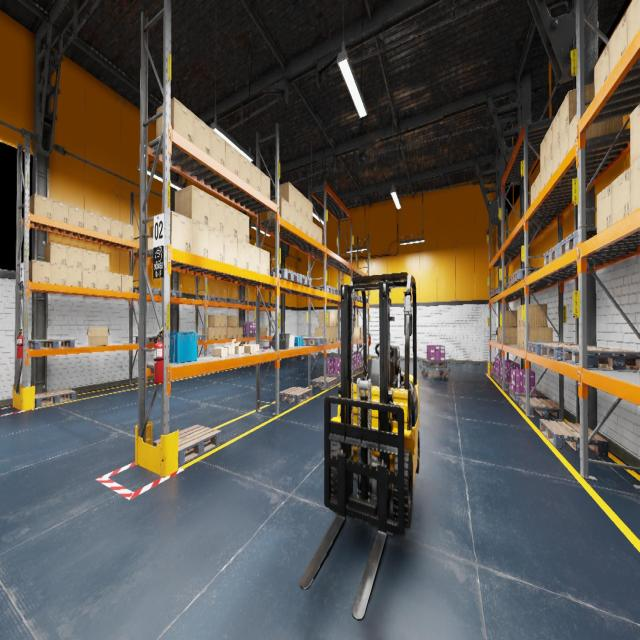box: (569, 106, 622, 152), (560, 83, 594, 139), (156, 98, 194, 144), (174, 185, 208, 226), (610, 10, 628, 74), (612, 166, 631, 224), (594, 42, 610, 96), (170, 211, 191, 252), (597, 182, 612, 234), (193, 114, 210, 155), (524, 327, 553, 350), (520, 304, 548, 327), (630, 103, 640, 165), (192, 220, 208, 258), (627, 0, 640, 46), (210, 128, 225, 167), (209, 194, 224, 233), (29, 194, 52, 218), (630, 158, 640, 213), (267, 197, 289, 222), (44, 242, 67, 265), (209, 227, 224, 262), (275, 182, 295, 208), (29, 260, 50, 283), (224, 203, 237, 238), (226, 141, 238, 176), (87, 327, 109, 346), (224, 234, 237, 266), (52, 199, 68, 224), (50, 263, 67, 285), (68, 205, 84, 228), (239, 152, 250, 185), (238, 210, 249, 243), (237, 240, 249, 270), (552, 107, 560, 151), (67, 245, 82, 268), (66, 266, 82, 287), (249, 244, 260, 272), (250, 162, 260, 192), (560, 126, 568, 163), (82, 249, 96, 270), (84, 210, 98, 231), (82, 268, 96, 288), (500, 310, 517, 326), (96, 270, 109, 290), (96, 252, 109, 272), (314, 327, 330, 343), (502, 327, 517, 344), (261, 171, 270, 199), (260, 248, 269, 276), (98, 214, 110, 235), (110, 218, 122, 238), (546, 122, 552, 161), (553, 140, 560, 173), (122, 222, 134, 241), (319, 311, 333, 327), (540, 134, 546, 171), (546, 152, 553, 183), (121, 274, 133, 292), (109, 273, 121, 291), (230, 339, 244, 354), (540, 162, 546, 191), (212, 347, 228, 357), (202, 327, 215, 339), (208, 314, 220, 326), (289, 204, 295, 226), (296, 188, 301, 213), (226, 316, 238, 326), (243, 344, 256, 353), (302, 194, 307, 217), (220, 346, 234, 354), (296, 208, 301, 230), (302, 213, 307, 234), (536, 172, 540, 198), (531, 180, 535, 205), (308, 199, 312, 222), (520, 327, 524, 349), (248, 344, 259, 352), (308, 218, 312, 238), (147, 237, 153, 250), (226, 327, 233, 338), (313, 222, 317, 241), (318, 226, 322, 244), (220, 315, 226, 327), (260, 327, 267, 337), (220, 327, 226, 338), (517, 306, 520, 326), (353, 314, 358, 326), (215, 327, 220, 339), (233, 327, 238, 338), (150, 225, 154, 238), (334, 327, 337, 343), (330, 327, 333, 343), (518, 327, 520, 349), (238, 327, 242, 338), (334, 312, 337, 326), (498, 327, 500, 343), (500, 327, 502, 343), (496, 327, 498, 341), (353, 327, 355, 340), (356, 327, 358, 339), (360, 327, 362, 338), (358, 327, 359, 339)
forklift: (331, 272, 419, 528)
pallets: (154, 425, 220, 466), (540, 419, 608, 456), (562, 347, 640, 370), (558, 227, 597, 257), (541, 344, 608, 360), (519, 396, 559, 418), (35, 389, 76, 407), (528, 342, 578, 355), (279, 386, 312, 404), (509, 388, 546, 402), (513, 266, 543, 282), (28, 339, 75, 349), (270, 268, 298, 282), (312, 376, 337, 389), (544, 244, 558, 266), (509, 274, 529, 287), (134, 287, 162, 295), (303, 337, 327, 346), (311, 286, 335, 294), (296, 274, 311, 286), (136, 336, 161, 343), (423, 360, 447, 367), (159, 290, 182, 297), (493, 286, 507, 296), (499, 378, 510, 390), (198, 296, 220, 302), (211, 297, 232, 303), (326, 374, 341, 382), (232, 299, 245, 305), (352, 367, 360, 375), (252, 302, 268, 306), (262, 303, 275, 307), (242, 333, 255, 337), (186, 374, 203, 377), (356, 365, 363, 372), (207, 371, 223, 374), (359, 298, 368, 303), (197, 335, 205, 340), (492, 371, 496, 380), (496, 375, 500, 384), (356, 296, 362, 302), (490, 290, 495, 297), (335, 289, 340, 296), (361, 363, 368, 368), (170, 378, 186, 380), (507, 282, 509, 289)
